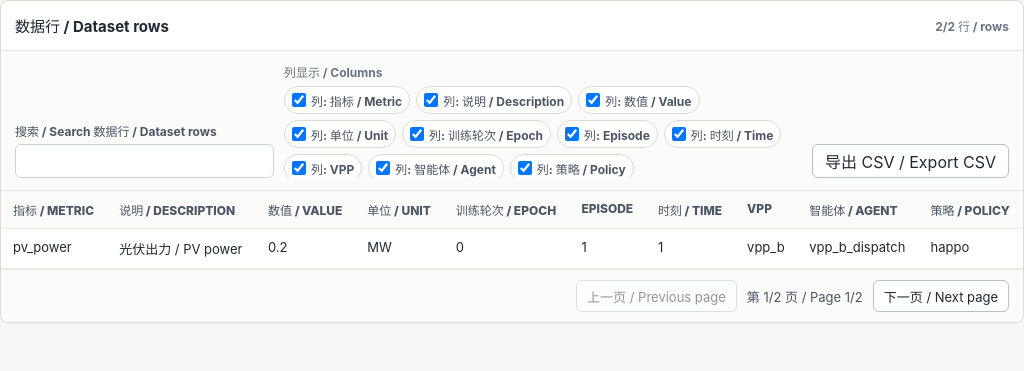
Test: MetricTable › paginates metric rows instead of silently truncating them
expect the text "pv_power" is shown: met, box [1,228,107,268]
expect the text "ev_charging_load" is not shown: met
Click the button "下一页 / Next page": (941, 296) [873,280,1009,312]
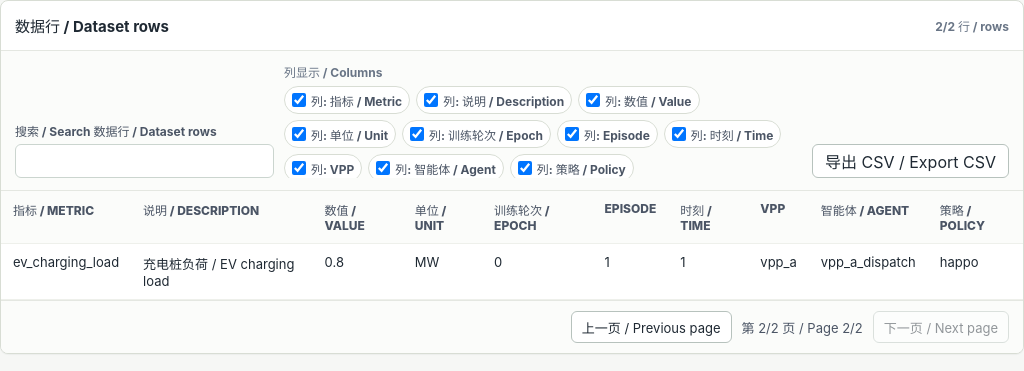
expect the text "pv_power" is gone: met
expect the text "ev_charging_load" is shown: met, box [1,244,131,300]
expect the text "第 2/2 页 / Page 2/2" is shown: met, box [742,318,863,336]
